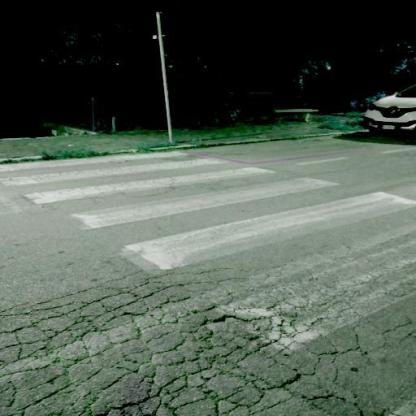crosswalk: (68, 172, 416, 277)
